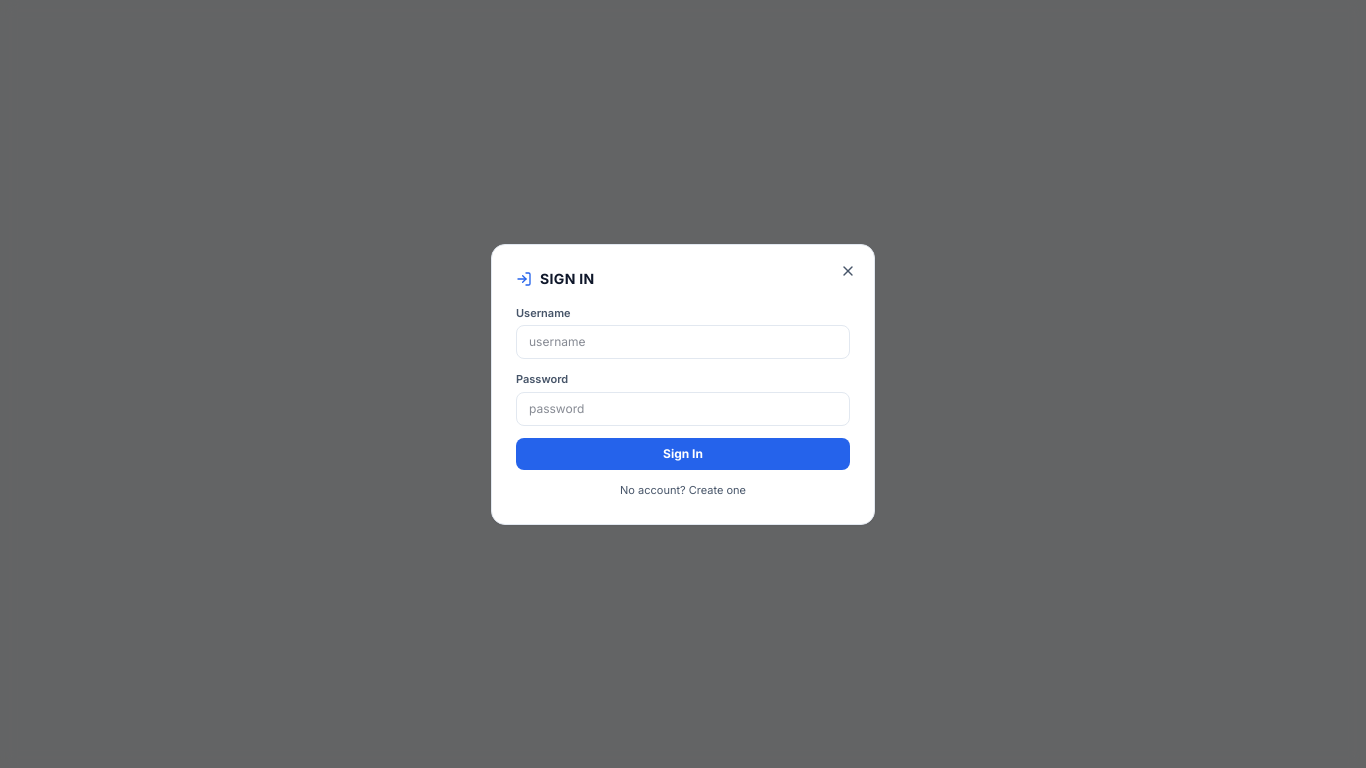
Test: AuthModal › switches to register mode
Click the button "No account? Create one" at (683, 490), box [516, 482, 850, 498]
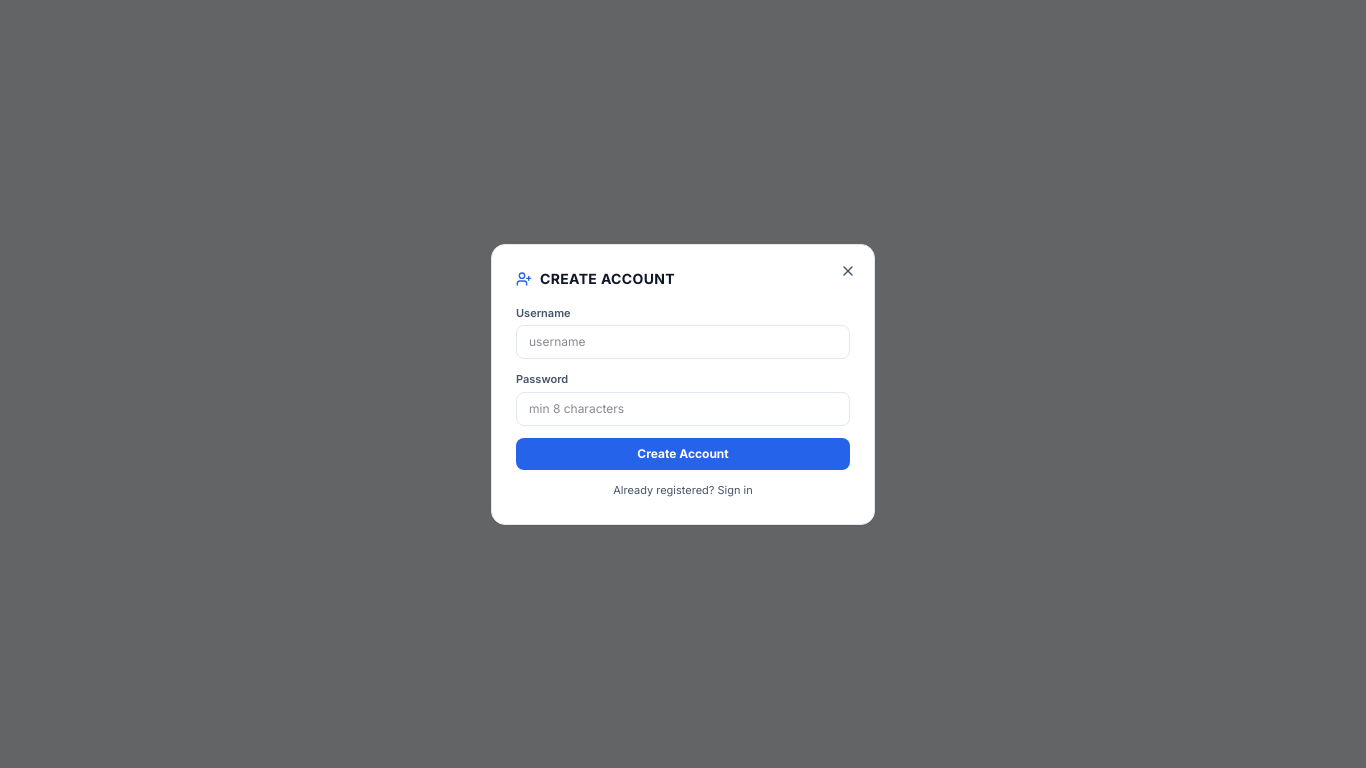
Expected: the button with test id "auth-submit" reads "Create Account", [516, 438, 850, 470]
